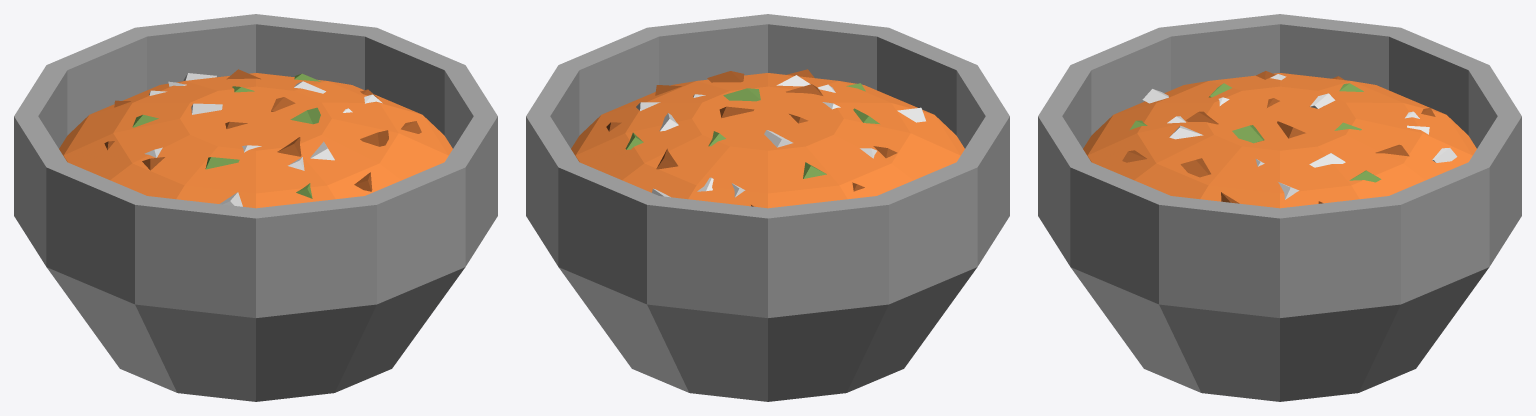
File: RedPepperTunaBibimbap Installer (3).fbx
The picture shows the model from 3 angles, left to right: view 1: azimuth 30°, elevation 25°; view 2: azimuth 150°, elevation 25°; view 3: azimuth 270°, elevation 25°; orthographic projection.
Parts seen in each view (by area): view 1: RedPepperTunaBibimbap_Installer; view 2: RedPepperTunaBibimbap_Installer; view 3: RedPepperTunaBibimbap_Installer.
Boxes of the visible parts, box(x1,y1,x2,y2) form: RedPepperTunaBibimbap_Installer: box(14, 14, 497, 401); RedPepperTunaBibimbap_Installer: box(526, 14, 1009, 401); RedPepperTunaBibimbap_Installer: box(1038, 14, 1521, 401).
Bounding box in the file's own units: 6.28 × 3.26 × 6.28.
